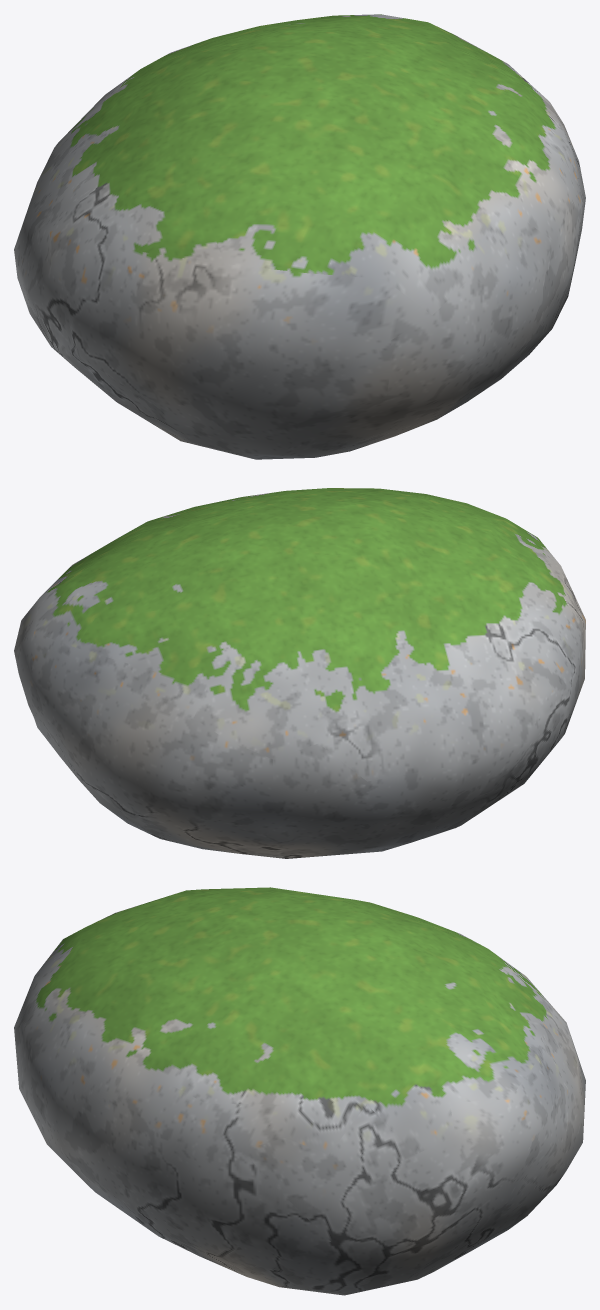
The model's file is rock_a.glb.
The picture shows the model from 3 angles, top to bottom: view 1: azimuth 30°, elevation 25°; view 2: azimuth 150°, elevation 25°; view 3: azimuth 270°, elevation 25°; orthographic projection. The views are drawn at different scales.
Visible parts, largest first — view 1: Rock; view 2: Rock; view 3: Rock.
Boxes of the visible parts, x1,y1,x2,y2 form: Rock: (14, 14, 585, 459); Rock: (14, 488, 585, 858); Rock: (14, 887, 585, 1295).
Size of the model in its own units: 2.28 by 1.41 by 2.32.
1 material, 1 textured.
